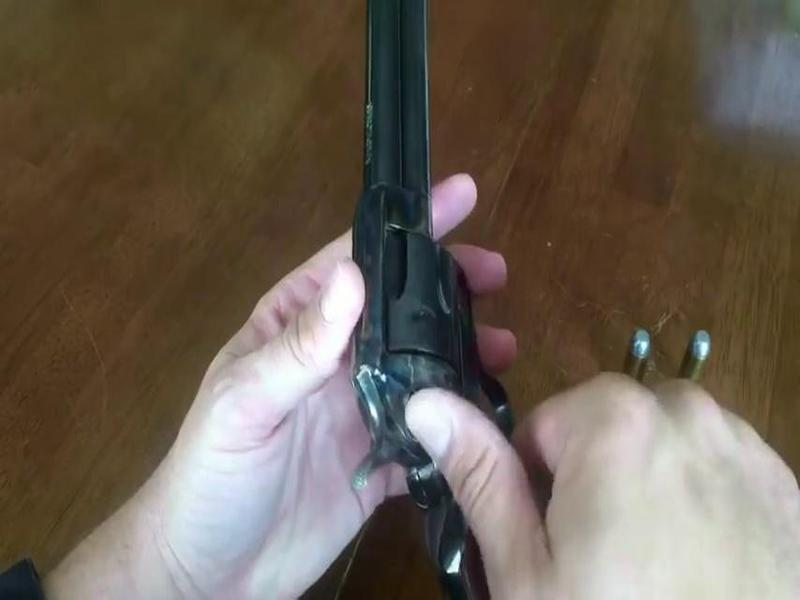Revolver: (355, 24, 549, 600)
